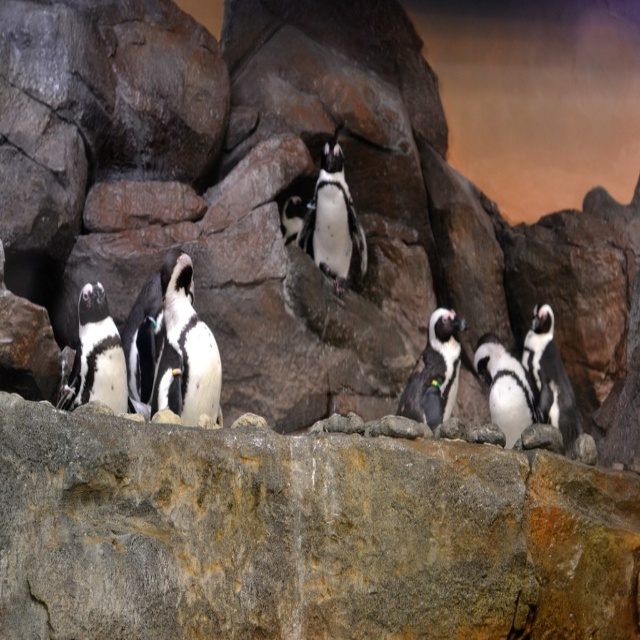Penguin: (132, 254, 226, 438), (299, 134, 369, 286), (515, 303, 581, 459), (56, 277, 127, 414), (396, 301, 464, 438), (468, 334, 546, 451), (276, 193, 315, 260)
